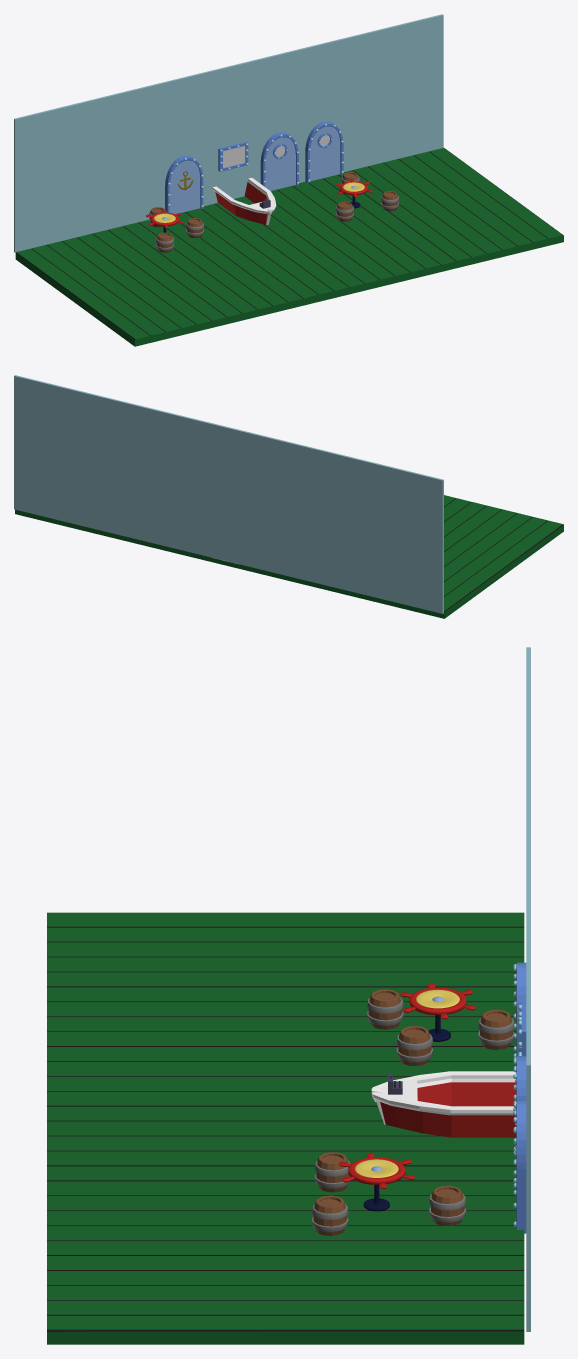
File: spongebob_hamburger_restaurant.glb
3 views of the same model, one above another, from view 1: azimuth 30°, elevation 25°; view 2: azimuth 150°, elevation 25°; view 3: azimuth 270°, elevation 25° (orthographic). The views are drawn at different scales.
Parts seen in each view (by area): view 1: Cube, Cube.065, Cube.055, Cube.053, Cube.063, Cube.059, Cube.017, Cube.029, Cube.057, Cube.067, Cube.061, Cube.015 (+26 smaller); view 2: Cube, Cube.065, Cube.063, Cube.061, Cube.059, Cube.057, Cube.055, Cube.066, Cube.053; view 3: Cube.067, Cube.061, Cube.063, Cube.011, Cube.013, Cube.015, Cube.065, Cube.017, Cube.029, Cube.059, Cube.057, Cube.030 (+49 smaller).
Part boxes in pixels (bbox=[...]): Cube: bbox=[14, 14, 443, 252]; Cube.065: bbox=[15, 248, 150, 346]; Cube.055: bbox=[93, 230, 227, 327]; Cube.053: bbox=[109, 226, 242, 324]; Cube.063: bbox=[32, 245, 166, 342]; Cube.059: bbox=[63, 237, 196, 335]; Cube.017: bbox=[399, 155, 533, 253]; Cube.029: bbox=[415, 151, 548, 249]; Cube.057: bbox=[78, 233, 212, 331]; Cube.067: bbox=[430, 148, 563, 245]; Cube.061: bbox=[47, 241, 181, 338]; Cube.015: bbox=[384, 159, 517, 256]; Cube: bbox=[14, 375, 443, 613]; Cube.065: bbox=[428, 520, 563, 618]; Cube.063: bbox=[414, 517, 546, 614]; Cube.061: bbox=[398, 513, 531, 611]; Cube.059: bbox=[382, 509, 516, 607]; Cube.057: bbox=[368, 506, 501, 603]; Cube.055: bbox=[352, 502, 485, 599]; Cube.066: bbox=[444, 520, 563, 611]; Cube.053: bbox=[337, 498, 470, 596]; Cube.067: bbox=[47, 1316, 524, 1344]; Cube.061: bbox=[47, 942, 524, 956]; Cube.063: bbox=[47, 927, 524, 941]; Cube.011: bbox=[47, 1241, 524, 1254]; Cube.013: bbox=[47, 1256, 524, 1269]; Cube.015: bbox=[47, 1271, 524, 1284]; Cube.065: bbox=[47, 913, 524, 926]; Cube.017: bbox=[47, 1286, 524, 1299]; Cube.029: bbox=[47, 1301, 524, 1314]; Cube.059: bbox=[47, 957, 524, 970]; Cube.057: bbox=[47, 972, 516, 985]; Cube.030: bbox=[47, 1136, 516, 1149].
Bounding box in the file's own units: 67.35 × 20.92 × 32.9.
